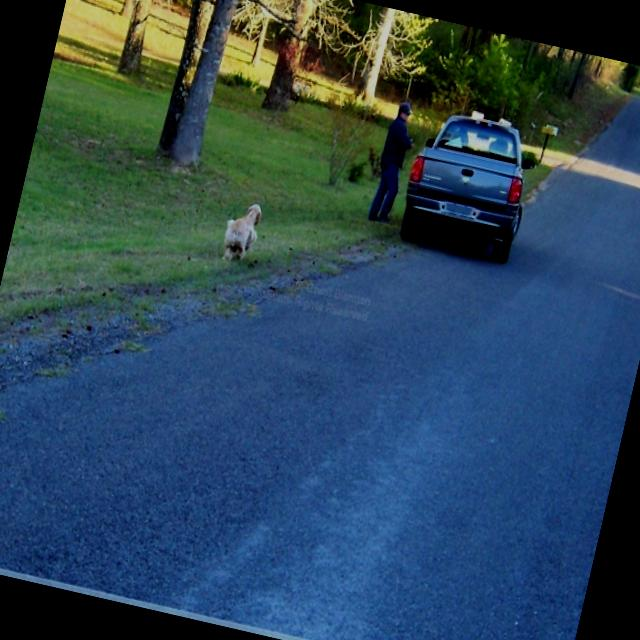Vehicle: (392, 103, 546, 270)
